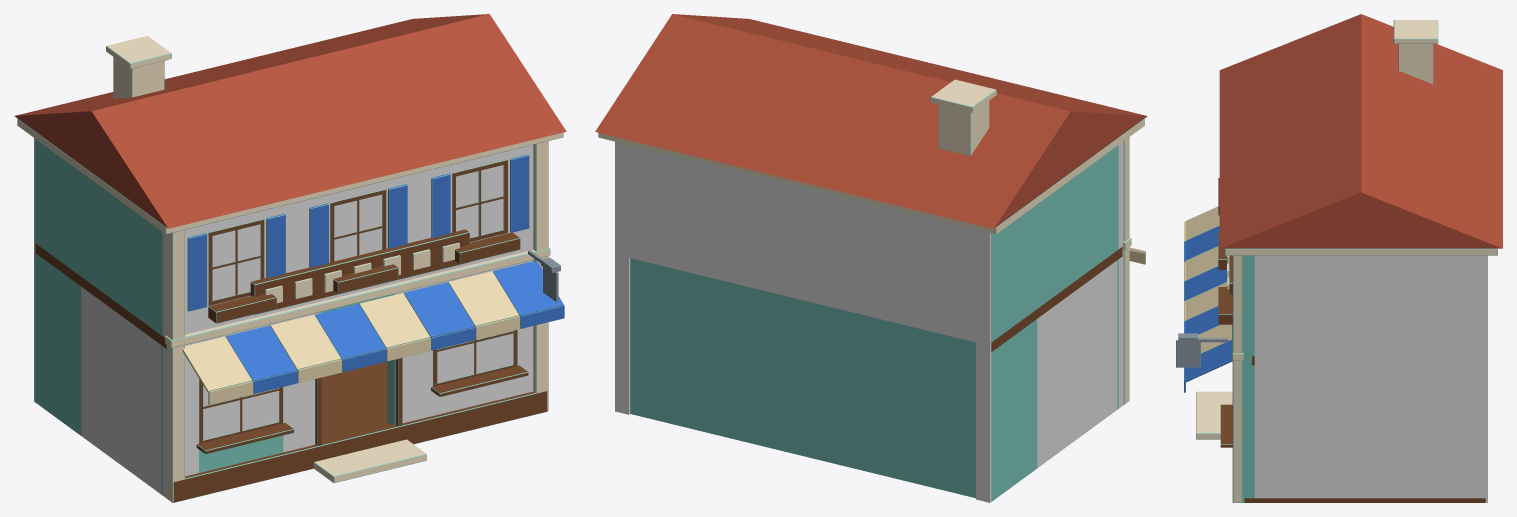
File: bld_shopfront_b.glb
The picture shows the model from 3 angles, left to right: view 1: azimuth 30°, elevation 25°; view 2: azimuth 150°, elevation 25°; view 3: azimuth 270°, elevation 25°; orthographic projection. The views are drawn at different scales.
Visible parts, largest first — view 1: bld_shopfront_b, COL_bld_shopfront_b_4, COL_bld_shopfront_b_5, COL_bld_shopfront_b_2, COL_bld_shopfront_b_1; view 2: bld_shopfront_b, COL_bld_shopfront_b_8, COL_bld_shopfront_b_5, COL_bld_shopfront_b_6, COL_bld_shopfront_b_1, COL_bld_shopfront_b_4; view 3: bld_shopfront_b, COL_bld_shopfront_b_6, COL_bld_shopfront_b_8, COL_bld_shopfront_b_7.
Boxes of the visible parts, x1,y1,x2,y2 form: bld_shopfront_b: (14, 14, 566, 502); COL_bld_shopfront_b_4: (162, 145, 533, 337); COL_bld_shopfront_b_5: (34, 245, 161, 494); COL_bld_shopfront_b_2: (395, 260, 533, 424); COL_bld_shopfront_b_1: (162, 312, 320, 498); bld_shopfront_b: (595, 14, 1147, 501); COL_bld_shopfront_b_8: (615, 141, 991, 345); COL_bld_shopfront_b_5: (976, 260, 1117, 502); COL_bld_shopfront_b_6: (615, 254, 630, 414); COL_bld_shopfront_b_1: (1118, 249, 1123, 408); COL_bld_shopfront_b_4: (1118, 141, 1123, 248); bld_shopfront_b: (1176, 14, 1502, 502); COL_bld_shopfront_b_6: (1254, 358, 1487, 502); COL_bld_shopfront_b_8: (1254, 255, 1487, 358); COL_bld_shopfront_b_7: (1401, 358, 1485, 498).
Bounding box in the file's own units: 8.5 × 7.44 × 6.58.
